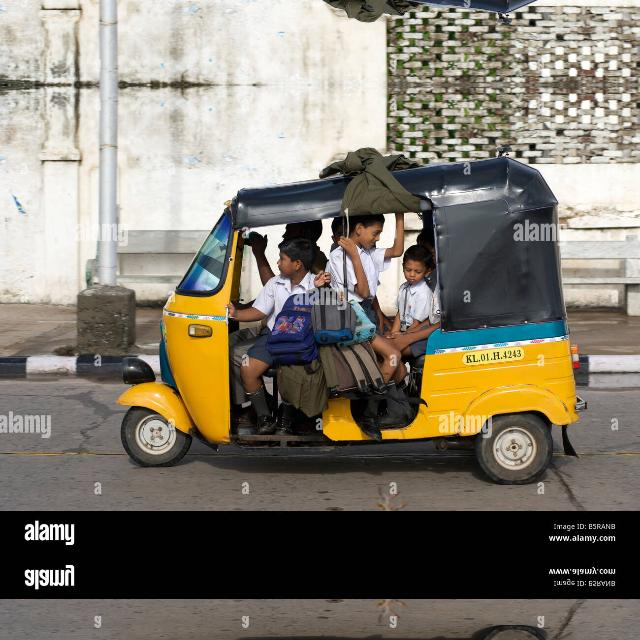auto: (109, 170, 573, 462)
person: (226, 238, 330, 434), (326, 213, 413, 416), (387, 230, 440, 356), (229, 321, 265, 428), (390, 246, 432, 334), (283, 220, 327, 274), (330, 217, 344, 253)
persons: (283, 238, 315, 339)
